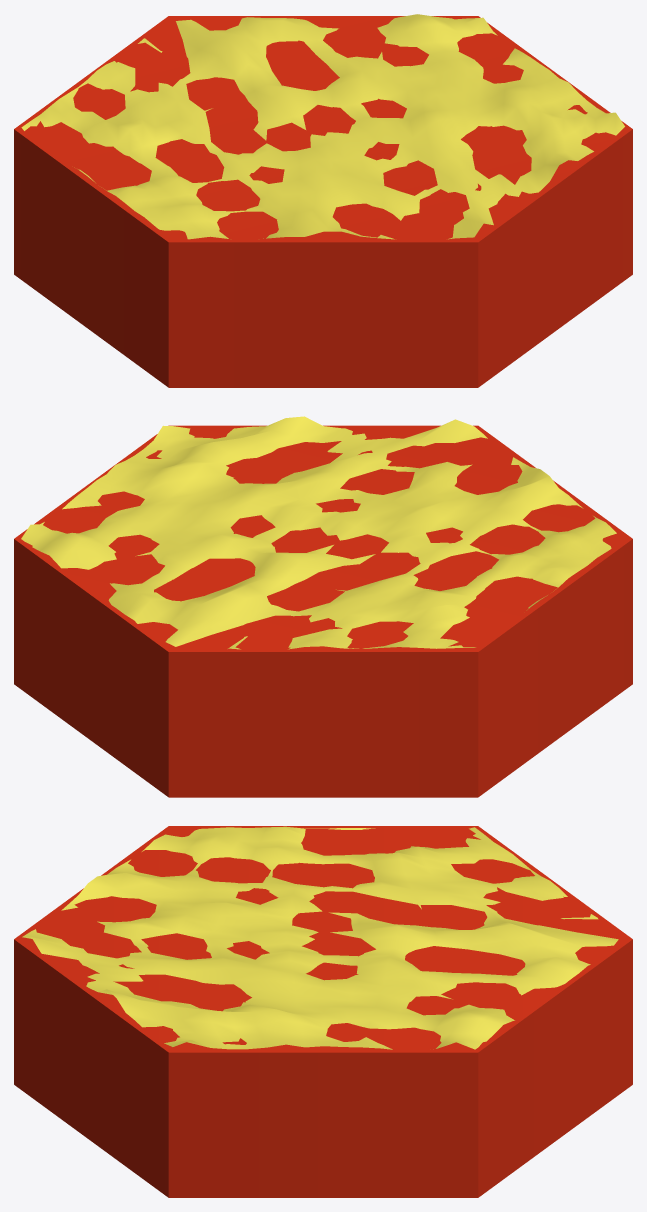
Rendered from Danger_Hex.fbx.
The picture shows the model from 3 angles, top to bottom: view 1: azimuth 30°, elevation 25°; view 2: azimuth 150°, elevation 25°; view 3: azimuth 270°, elevation 25°; orthographic projection.
Parts seen in each view (by area): view 1: Ground_Hex1.001, Grass1.001; view 2: Ground_Hex1.001, Grass1.001; view 3: Ground_Hex1.001, Grass1.001.
Part boxes in pixels (box(x1,y1,x2,y2)): Ground_Hex1.001: box(14, 16, 632, 387); Grass1.001: box(21, 14, 624, 239); Ground_Hex1.001: box(14, 425, 632, 797); Grass1.001: box(21, 416, 616, 649); Ground_Hex1.001: box(14, 826, 632, 1197); Grass1.001: box(22, 826, 618, 1049).
Size of the model in its own units: 2005 by 663 by 2315.
Materials: 1 (1 with a texture image).
